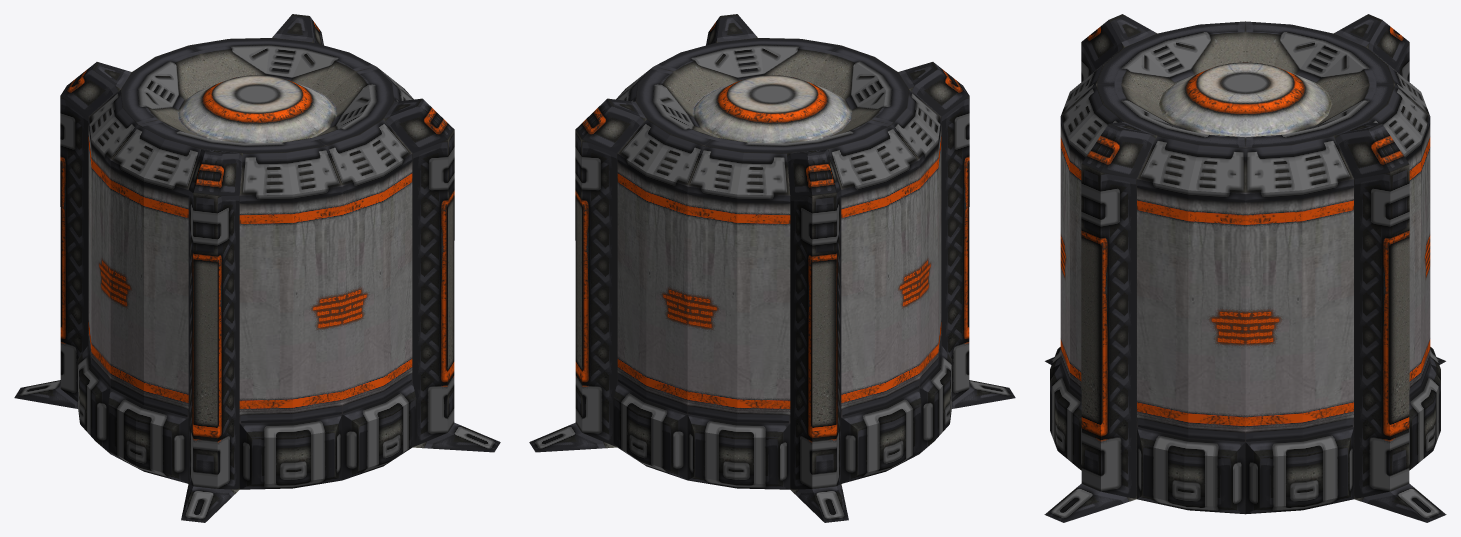
The model's file is barrel_fbx.fbx.
3 renders of one model, left to right at view 1: azimuth 30°, elevation 25°; view 2: azimuth 150°, elevation 25°; view 3: azimuth 270°, elevation 25°, orthographic. The views are drawn at different scales.
Visible parts, largest first — view 1: barrel; view 2: barrel; view 3: barrel.
Boxes of the visible parts, left/top/right/bottom form: barrel: left=14, top=14, right=500, bottom=522; barrel: left=529, top=14, right=1015, bottom=522; barrel: left=1044, top=14, right=1446, bottom=522.
Bounding box in the file's own units: 1453 × 1460 × 1453.
Materials: 1 (1 with a texture image).
